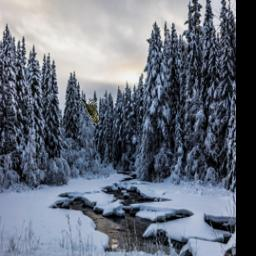Sparrow: (82, 98, 100, 124)
